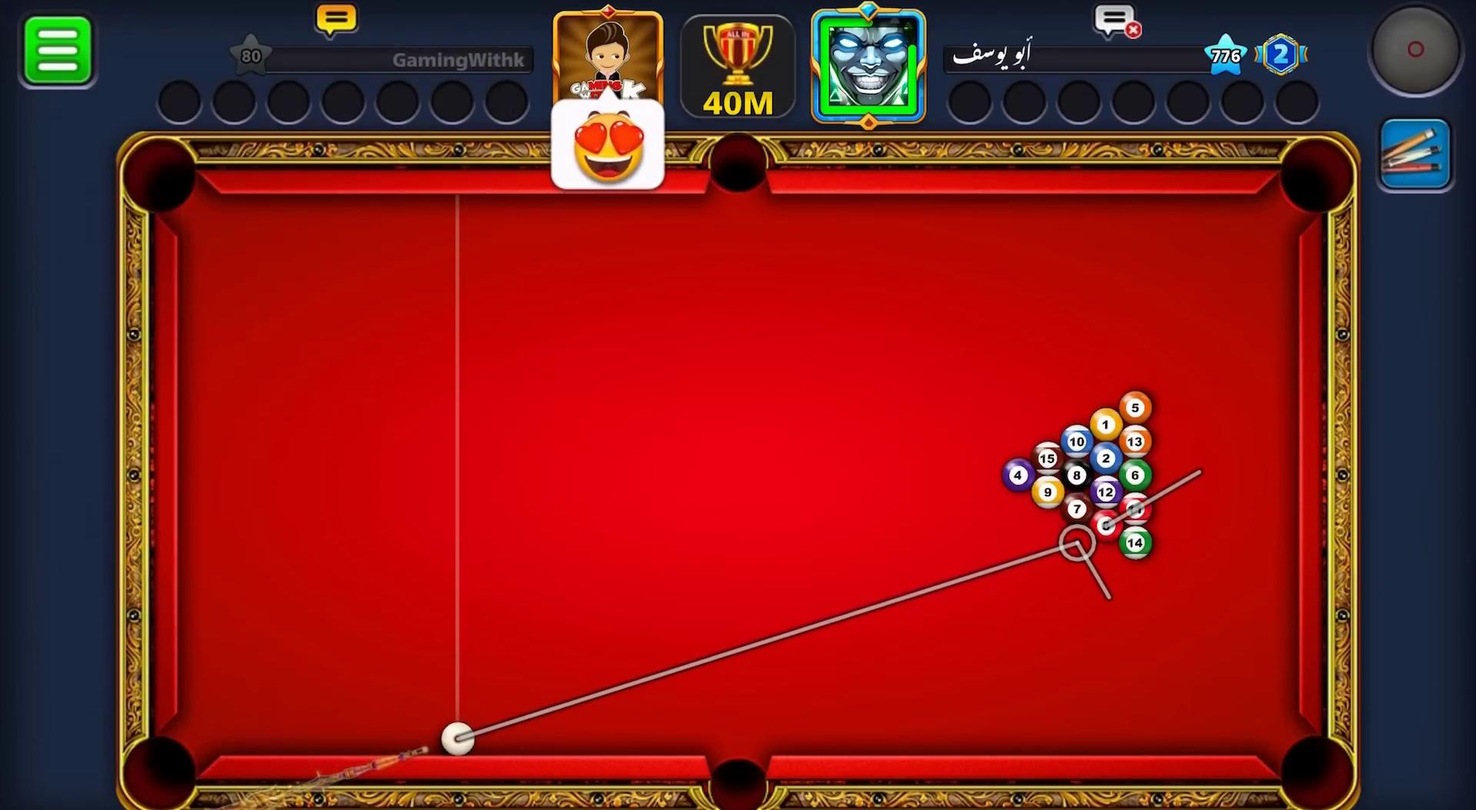Ball: (1118, 389, 1154, 425), (1061, 489, 1095, 526), (1119, 526, 1153, 562), (1091, 475, 1124, 511), (1118, 426, 1154, 459), (1032, 475, 1065, 509), (1120, 493, 1153, 526), (1121, 457, 1153, 491), (1003, 458, 1035, 491), (1033, 441, 1065, 474), (1061, 424, 1093, 457), (1091, 408, 1122, 442), (1092, 509, 1122, 543), (1091, 443, 1123, 472), (1061, 460, 1091, 490)
Guideline: (472, 535, 1116, 744), (1102, 463, 1212, 528), (1058, 523, 1098, 562)
Hole: (123, 137, 202, 220), (1283, 136, 1357, 221), (1280, 733, 1357, 810), (124, 734, 196, 810), (704, 136, 772, 197), (708, 757, 769, 810)
Play_Area: (180, 197, 1288, 755)
Spin: (1367, 5, 1467, 101)
White: (439, 723, 478, 757)
